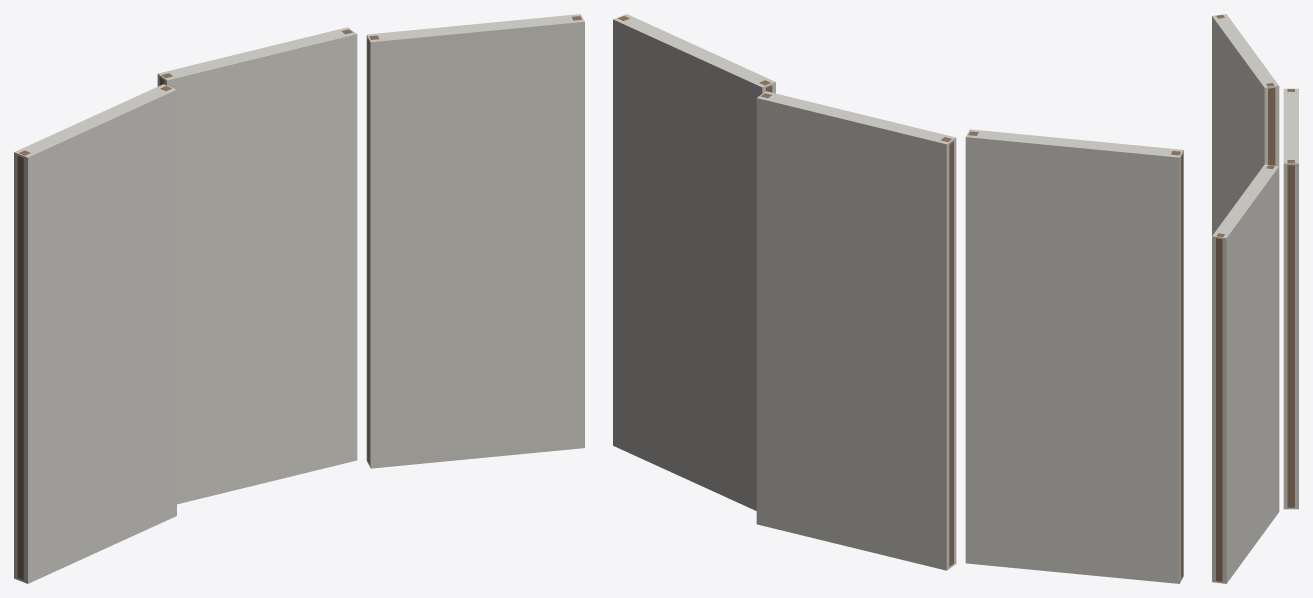
Rendered from feudal-japan-castle-town-folding-screen-6a370d78__26429.glb.
3 renders of one model, left to right at view 1: azimuth 30°, elevation 25°; view 2: azimuth 150°, elevation 25°; view 3: azimuth 270°, elevation 25°, orthographic. The views are drawn at different scales.
Parts seen in each view (by area): view 1: folding-screen; view 2: folding-screen; view 3: folding-screen.
Part boxes in pixels (x1=…): folding-screen: x1=14, y1=14, x2=584, y2=583; folding-screen: x1=613, y1=14, x2=1183, y2=583; folding-screen: x1=1212, y1=14, x2=1298, y2=583.
Size of the model in its own units: 2.09 by 1.5 by 0.3421.
